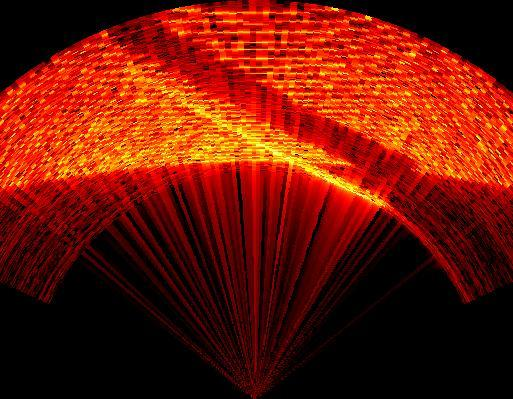pipe: (106, 15, 432, 203)
